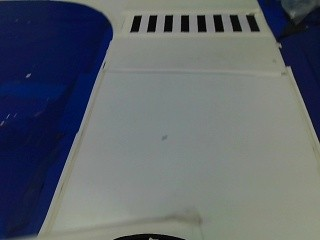crosswalk: (117, 9, 266, 36)
